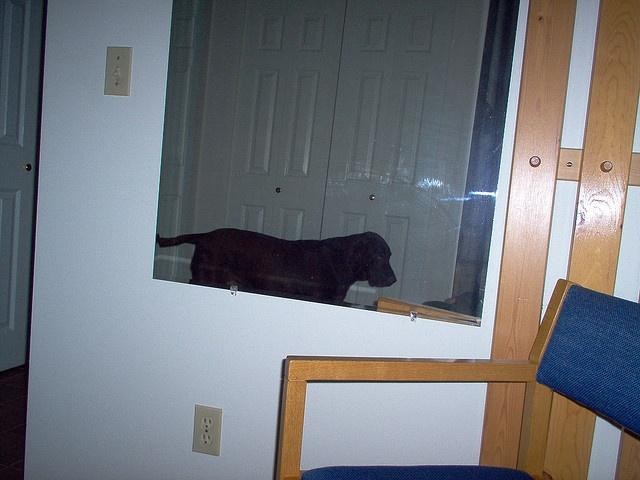Kursi: (268, 277, 639, 479)
